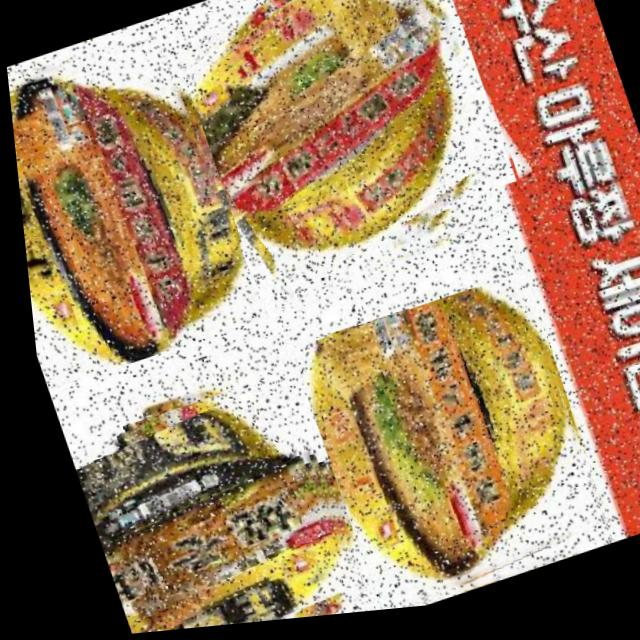Miscellaneous: (138, 0, 534, 334), (278, 274, 607, 621), (2, 13, 264, 390), (53, 368, 362, 638)
